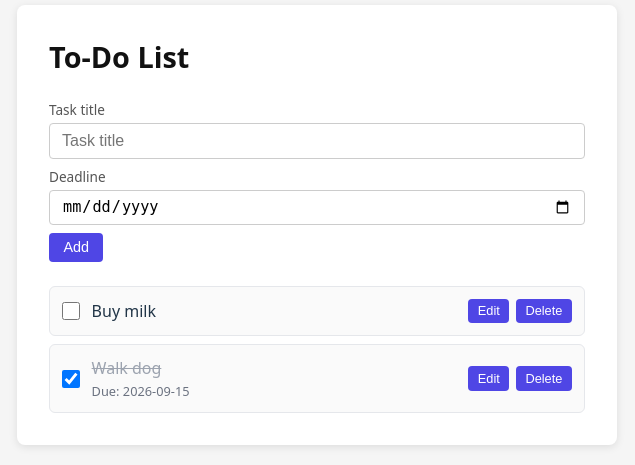
Scenario: Delete task › other tasks remain after one is deleted
Expected: the text "Buy milk" is shown, [92,300,156,322]
Click the button "Delete" in the row of "Buy milk": (544, 311) [516,299,572,323]
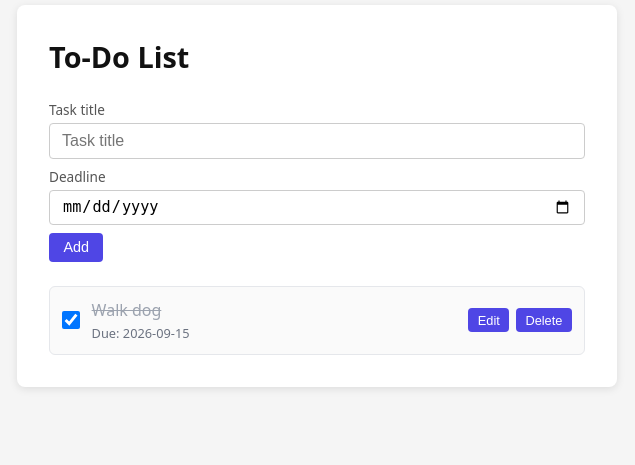
Expected: the text "Walk dog" is shown, [92,299,161,321]
Expected: the text "Buy milk" is gone
